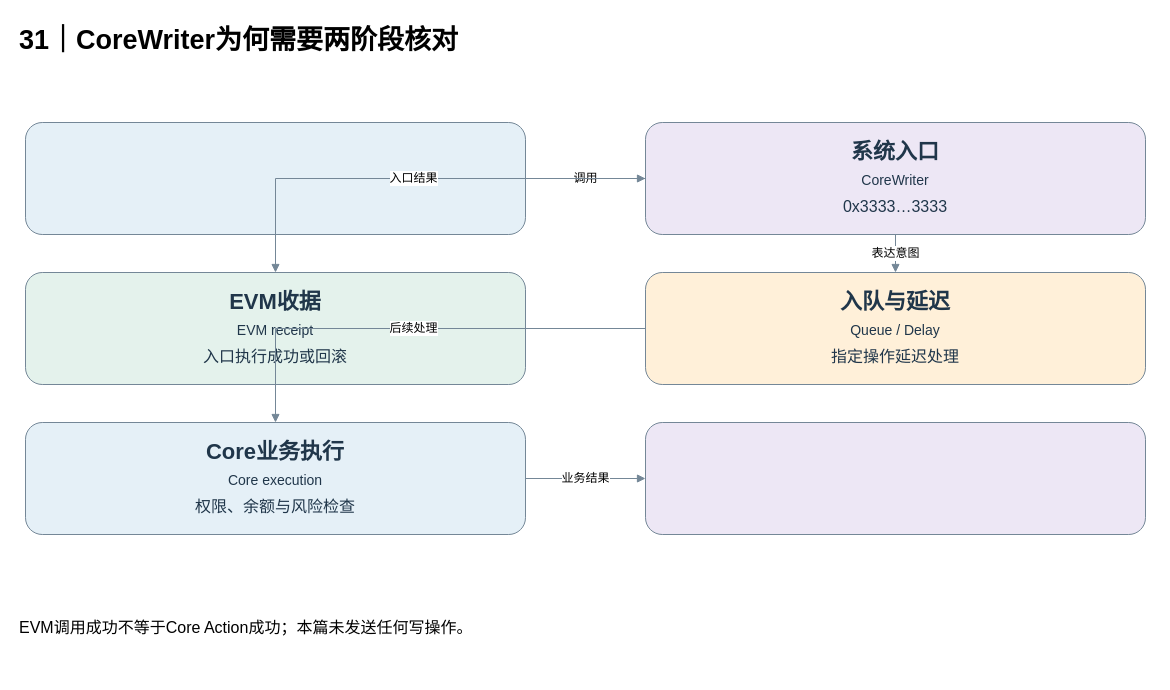
This 1170x690 diagram has some shape labels left out. The shapes that lost their labels are listed below. From the top down, each one's centre as x and y in pixels, then its label:
At [275,178]: "EVM合约意图 Contract intent Action ID与ABI参数".
At [895,478]: "订单与最终状态 Order / Final state 接受不等于成交".
